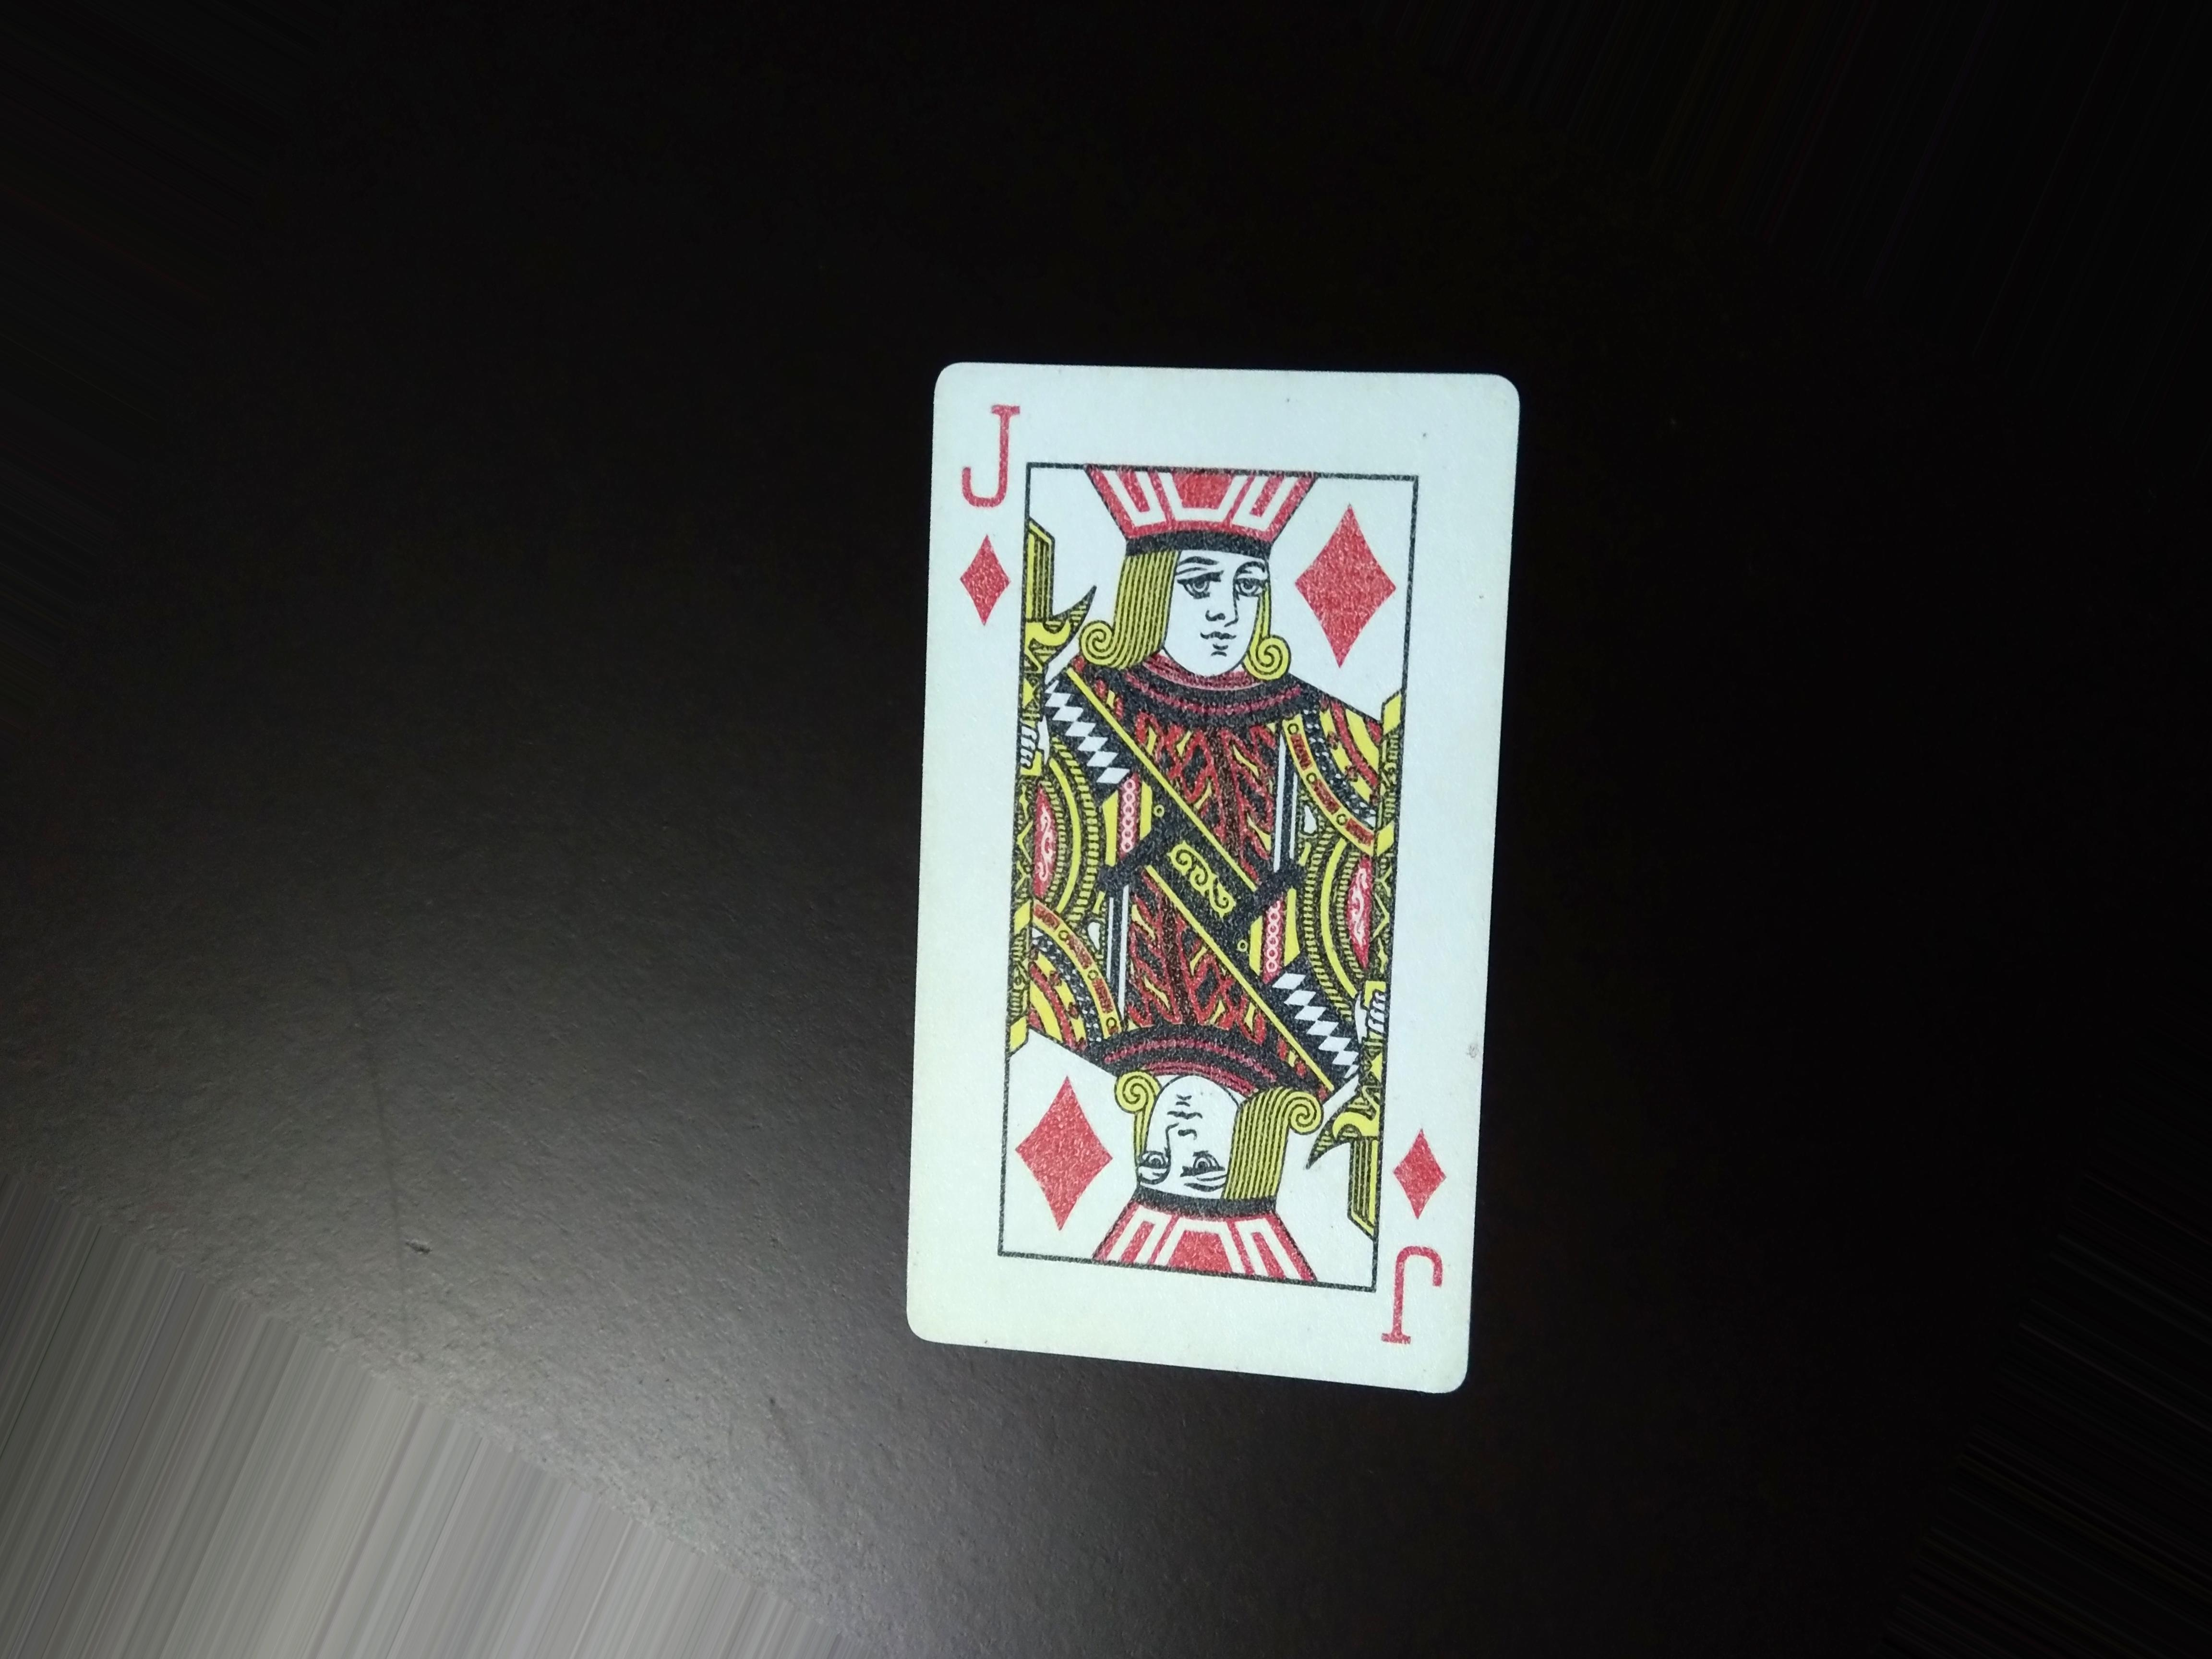JD: (1381, 1119, 1465, 1361)
